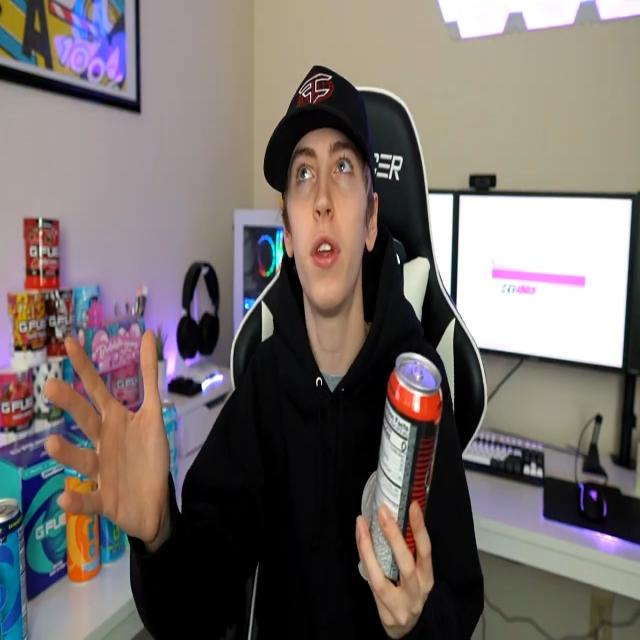can: (369, 351, 444, 587)
